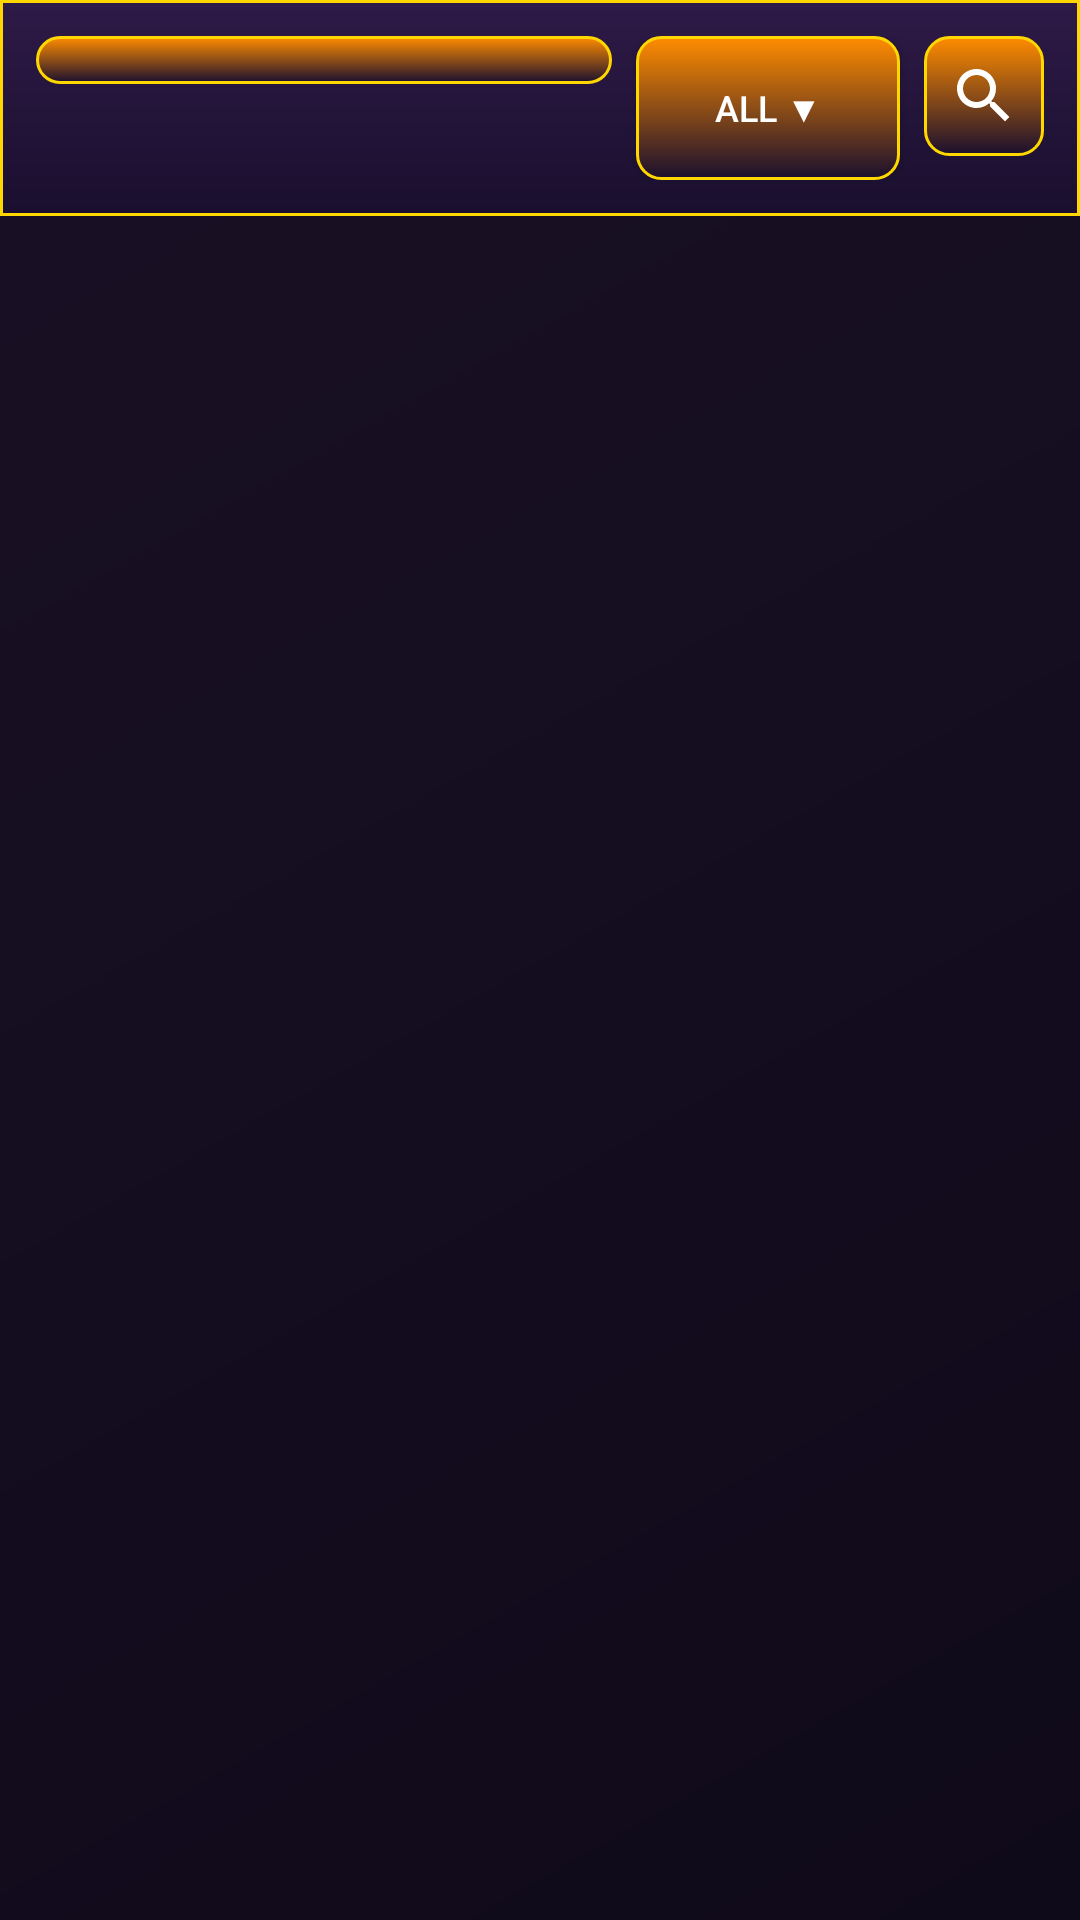

Where icons sit on this 1080 × 1920 app screen, as (x1, y1, x2, y2):
search: (924, 36, 1044, 156)
